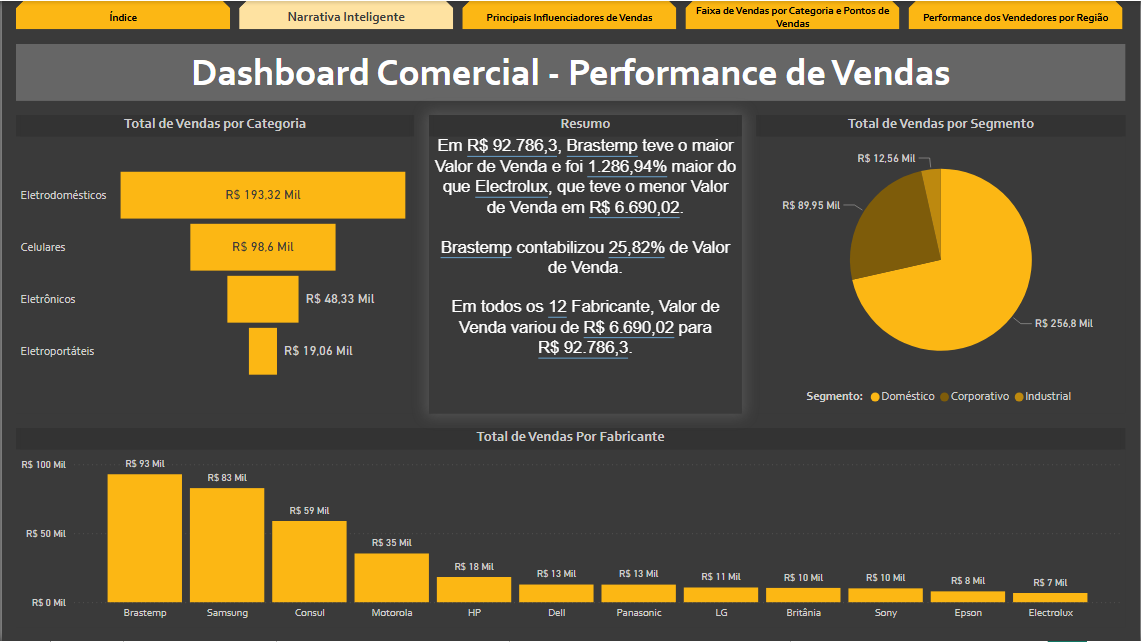

Layout of this report page (visuals, bound fields, positions):
{"tool":"powerbi","page":{"name":"Narrativa Inteligente","canvas":[1280,720],"ordinal":1},"visuals":[{"type":"textbox","box":[16,48,1248,64],"z":1000},{"type":"clusteredColumnChart","title":"Total de Vendas Por Fabricante","fields":{"Y":["Sum(Vendas.ValorVenda)"],"Category":["Vendas.Fabricante"]},"box":[16,480,1248,224],"z":2000},{"type":"pieChart","title":"Total de Vendas por Segmento","fields":{"Category":["Vendas.Segmento"],"Y":["Sum(Vendas.ValorVenda)"]},"box":[848,128,416,336],"z":3000},{"type":"funnel","title":"Total de Vendas por Categoria","fields":{"Category":["Vendas.Categoria"],"Y":["Sum(Vendas.ValorVenda)"]},"box":[16,128,448,336],"z":4000},{"type":"textbox","title":"Resumo","box":[480,128,352,336],"z":5000},{"type":"pageNavigator","box":[16,0,1248,32],"z":6000}]}

Visuals, with their boxes in screenshot pixels (x1, y1, x2, y2), scaled from the page's 1280x720 canvas onto the 1141x642 screenshot:
textbox: box(14, 43, 1127, 100)
"Total de Vendas Por Fabricante" clusteredColumnChart: box(14, 428, 1127, 628)
"Total de Vendas por Segmento" pieChart: box(756, 114, 1127, 414)
"Total de Vendas por Categoria" funnel: box(14, 114, 414, 414)
"Resumo" textbox: box(428, 114, 742, 414)
pageNavigator: box(14, 0, 1127, 29)
